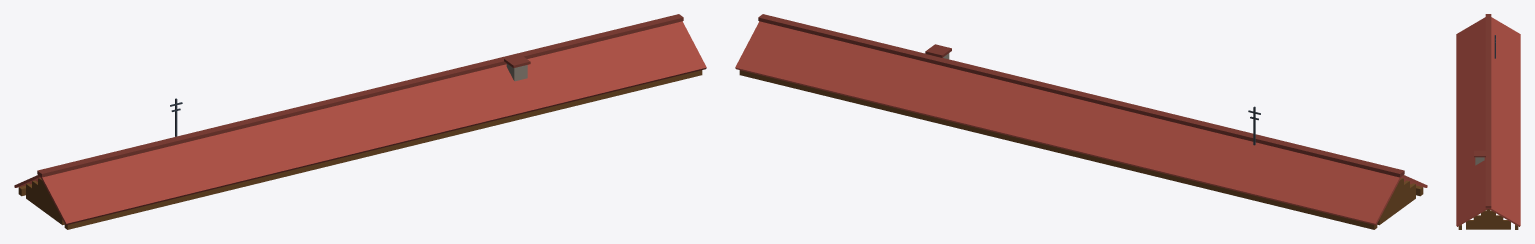
File: tejado.gltf
The picture shows the model from 3 angles, left to right: view 1: azimuth 30°, elevation 25°; view 2: azimuth 150°, elevation 25°; view 3: azimuth 270°, elevation 25°; orthographic projection. The views are drawn at different scales.
Visible parts, largest first — view 1: faldon_frente, cumbrera, aguafalda_f, testero_izq_2; view 2: faldon_trasero, cumbrera, aguafalda_b, testero_izq_3; view 3: faldon_trasero, faldon_frente, cumbrera, testero_der_2, testero_der_1, testero_der_3, chimenea_boca, testero_der_0, chimenea, antena_mastro.
Boxes of the visible parts, <box> form: faldon_frente: <box>40,21,706,225</box>; cumbrera: <box>37,14,683,177</box>; aguafalda_f: <box>64,70,702,229</box>; testero_izq_2: <box>32,180,56,219</box>; faldon_trasero: <box>735,21,1401,225</box>; cumbrera: <box>758,14,1404,177</box>; aguafalda_b: <box>739,70,1377,229</box>; testero_izq_3: <box>1377,183,1415,225</box>; faldon_trasero: <box>1488,17,1520,226</box>; faldon_frente: <box>1456,17,1488,226</box>; cumbrera: <box>1485,14,1491,208</box>; testero_der_2: <box>1473,215,1503,229</box>; testero_der_1: <box>1481,210,1495,229</box>; testero_der_3: <box>1466,220,1510,229</box>; chimenea_boca: <box>1474,150,1485,157</box>; testero_der_0: <box>1486,209,1490,229</box>; chimenea: <box>1475,157,1484,165</box>; antena_mastro: <box>1494,35,1495,58</box>.
Bounding box in the file's own units: 26.58 × 2.98 × 3.75.
